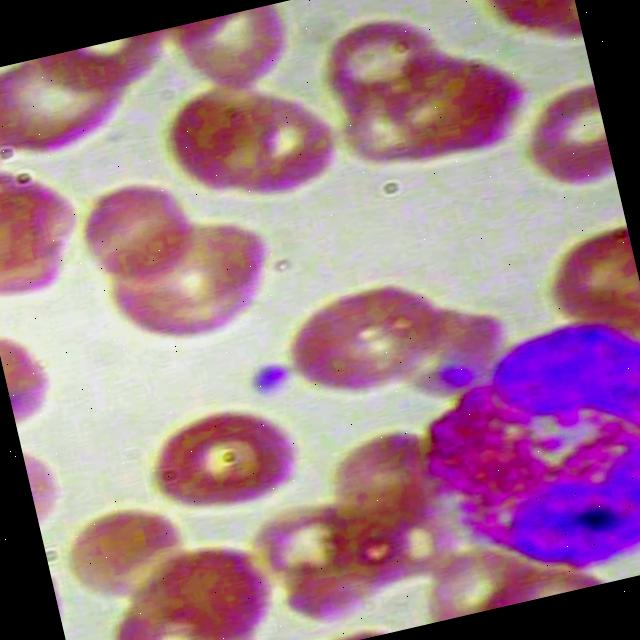Platelets: (243, 354, 294, 402)
RBC: (89, 196, 284, 362), (270, 252, 464, 417), (138, 386, 308, 526), (62, 484, 206, 610), (148, 72, 292, 196), (64, 166, 206, 290), (309, 0, 452, 122), (508, 69, 620, 218)
WBC: (398, 301, 640, 603)
